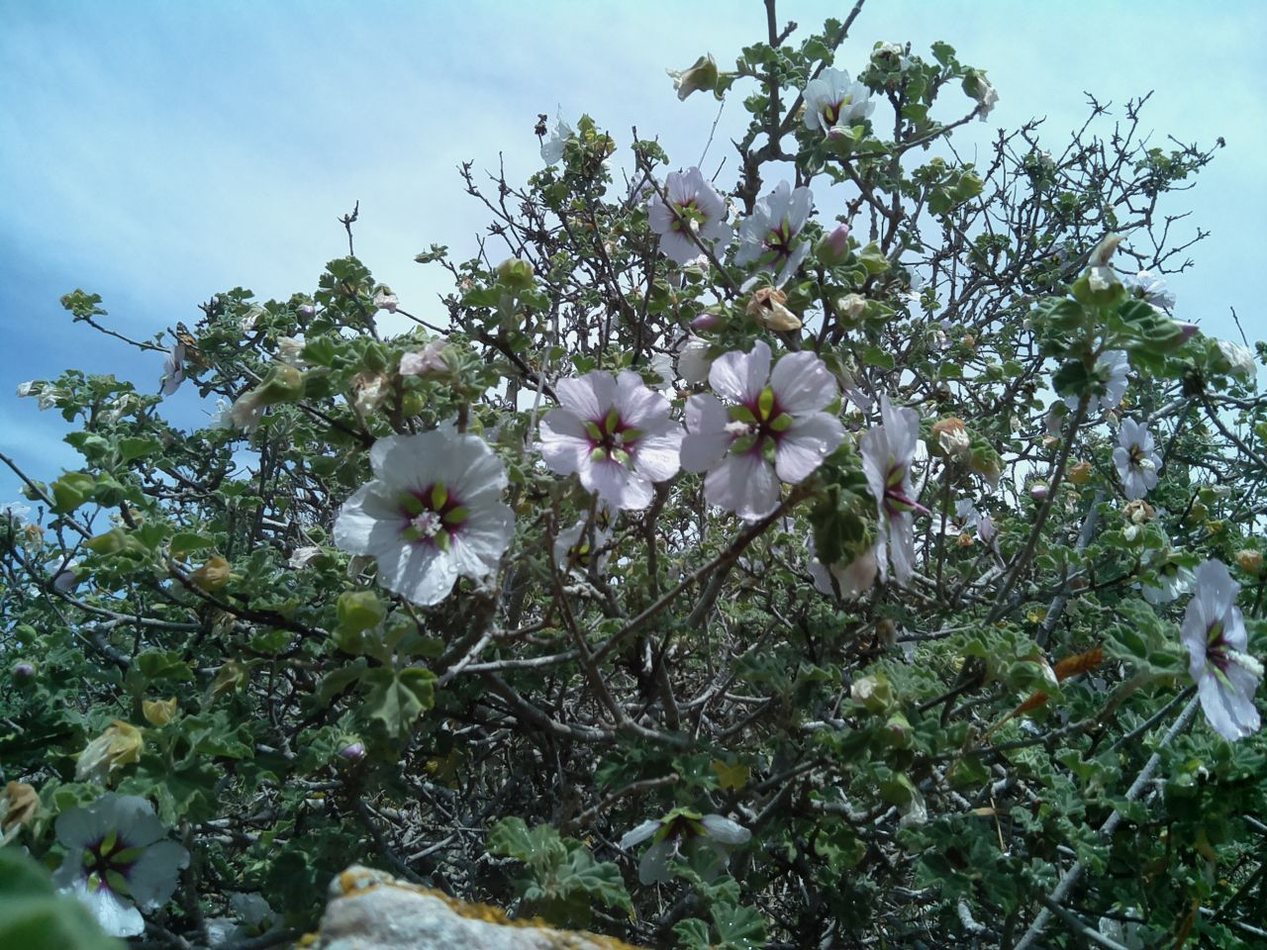Vanessa cardui: (154, 310, 222, 361)
